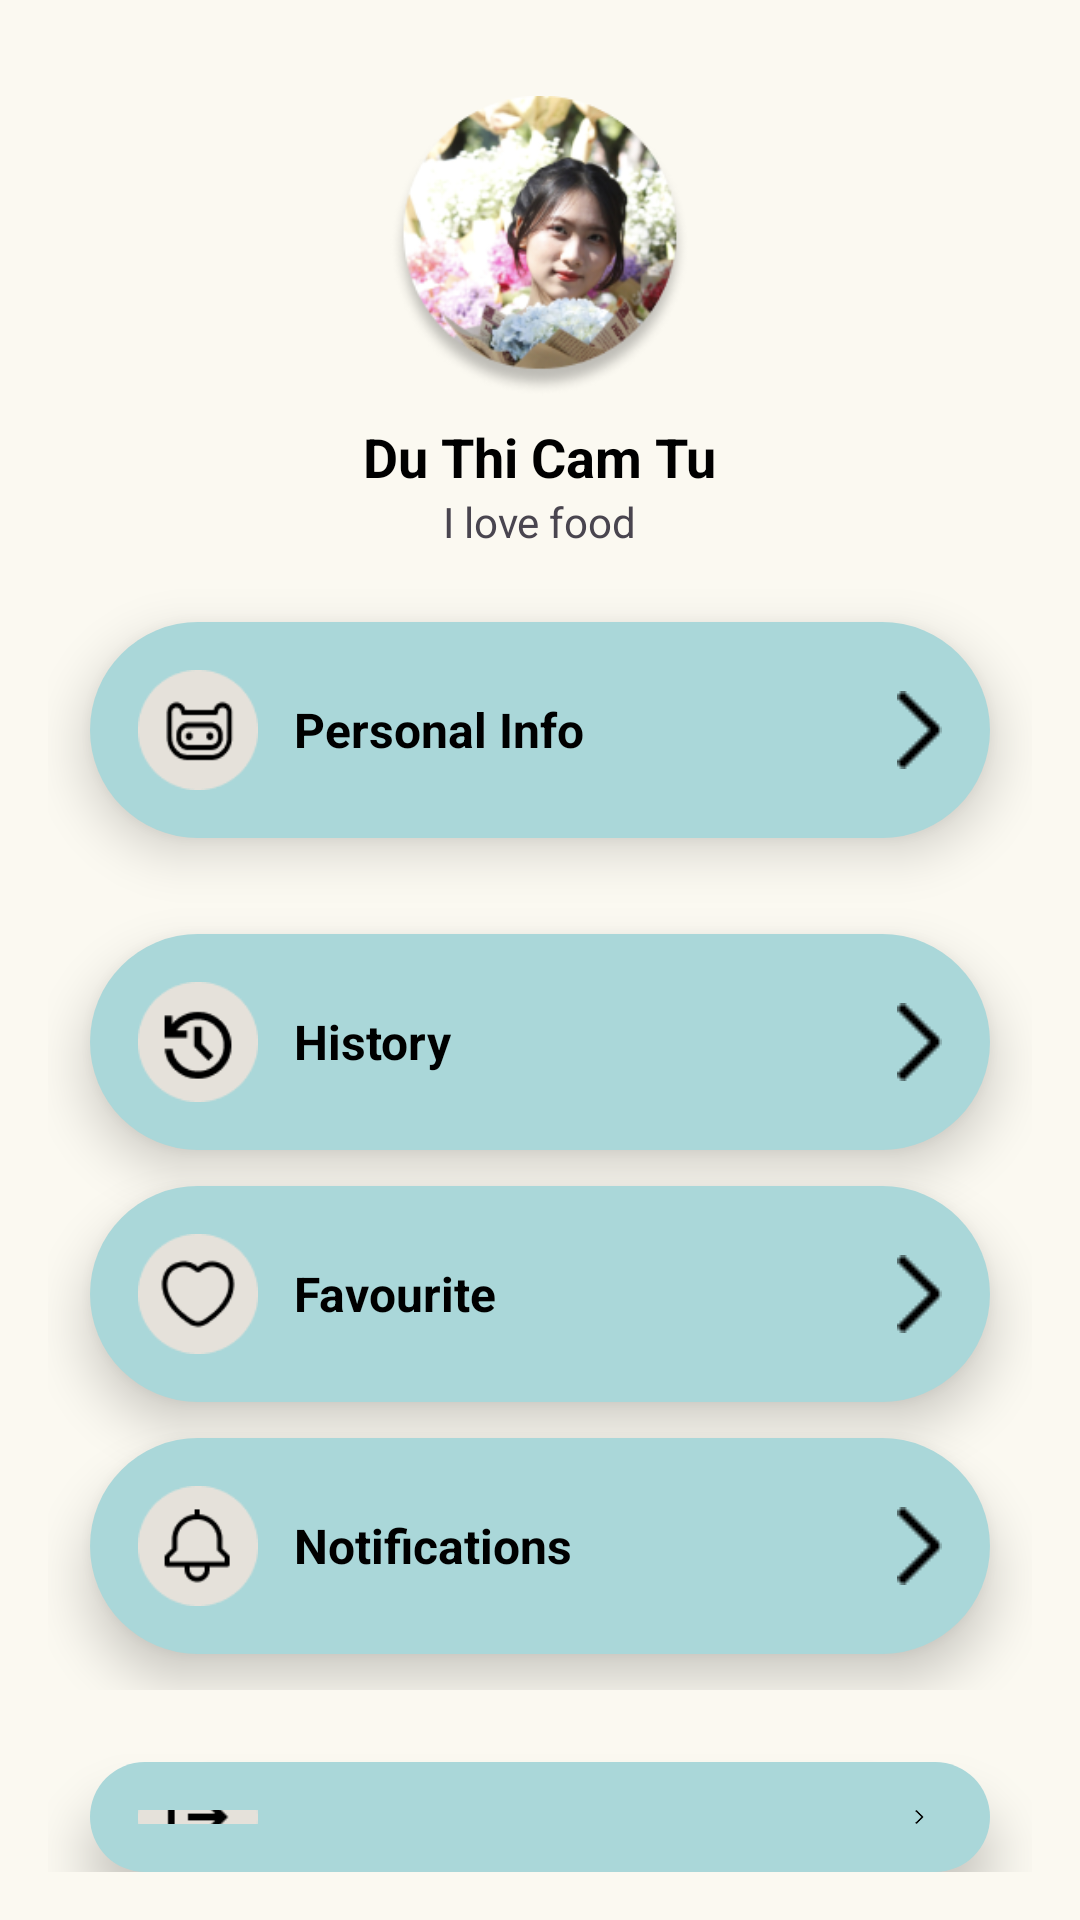

Locate icon controls on the screen. Image size 1080px×1920px, boxes as (x1, y1, x2, y2).
profile picture: (402, 96, 678, 384)
